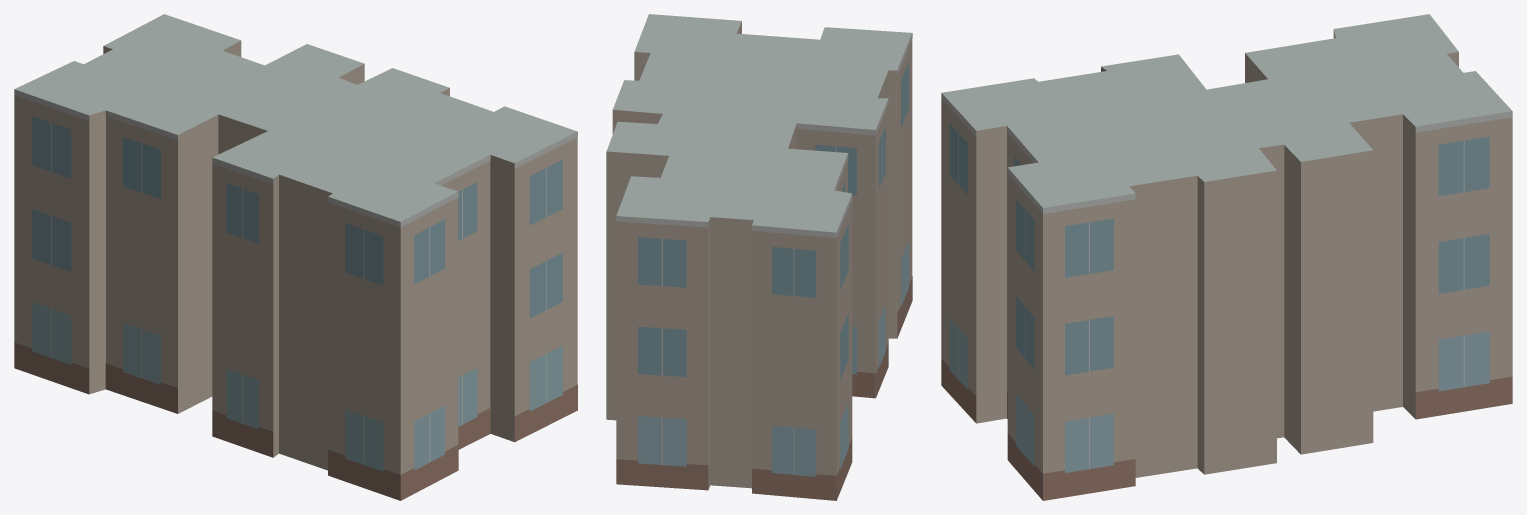
The model's file is survey-upis-32862203.glb.
3 renders of one model, left to right at view 1: azimuth 30°, elevation 25°; view 2: azimuth 150°, elevation 25°; view 3: azimuth 270°, elevation 25°, orthographic. The views are drawn at different scales.
Visible parts, largest first — view 1: survey-upis-32862203.tmp; view 2: survey-upis-32862203.tmp; view 3: survey-upis-32862203.tmp.
Boxes of the visible parts, x1,y1,x2,y2 form: survey-upis-32862203.tmp: (14,14,577,500); survey-upis-32862203.tmp: (606,14,912,500); survey-upis-32862203.tmp: (941,14,1512,500).
Bounding box in the file's own units: 16.94 × 11.9 × 21.06.
